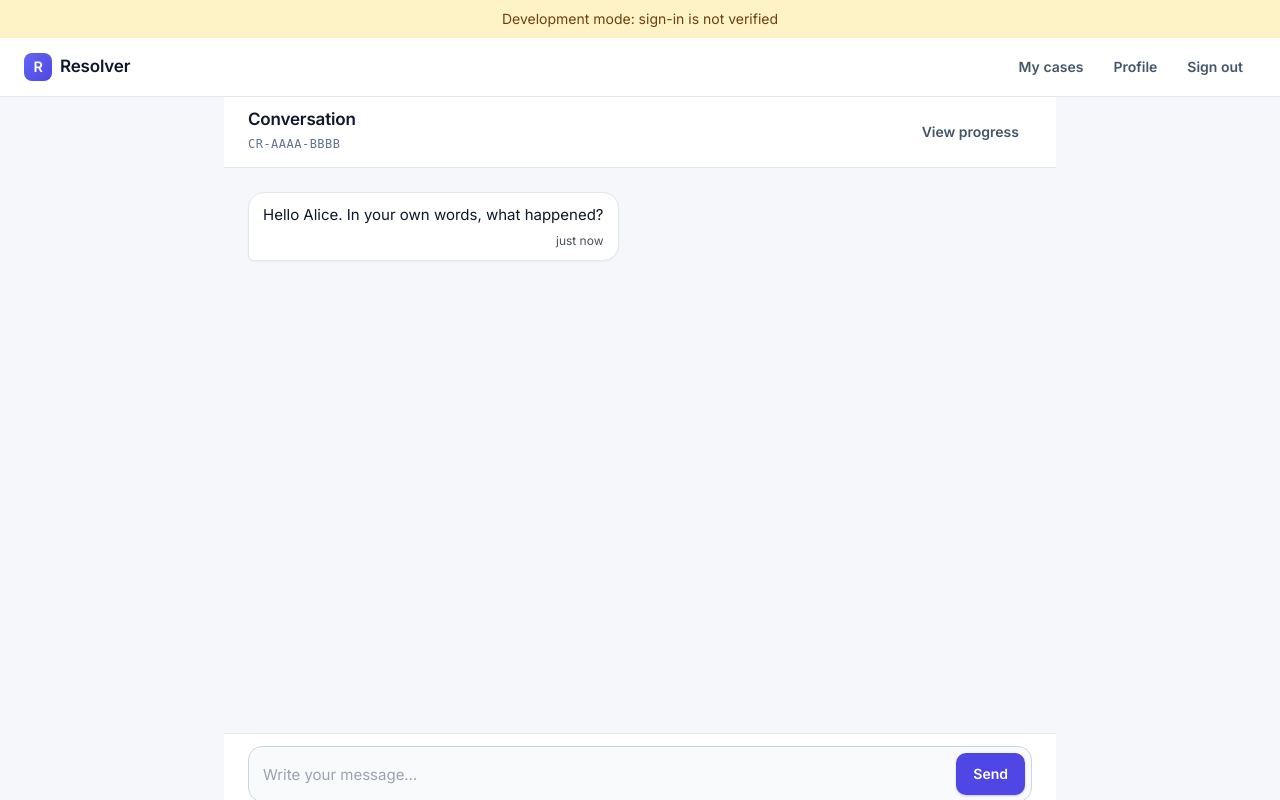
Chat › keeps a failed message with Retry, reusing the same client id
expect the text "Hello Alice. In your own words, what happened?" is shown: met, box [263, 205, 604, 224]
Type "Please keep this text" into the text box labelled "your message" at {"x": 606, "y": 775}, box [263, 755, 948, 795]
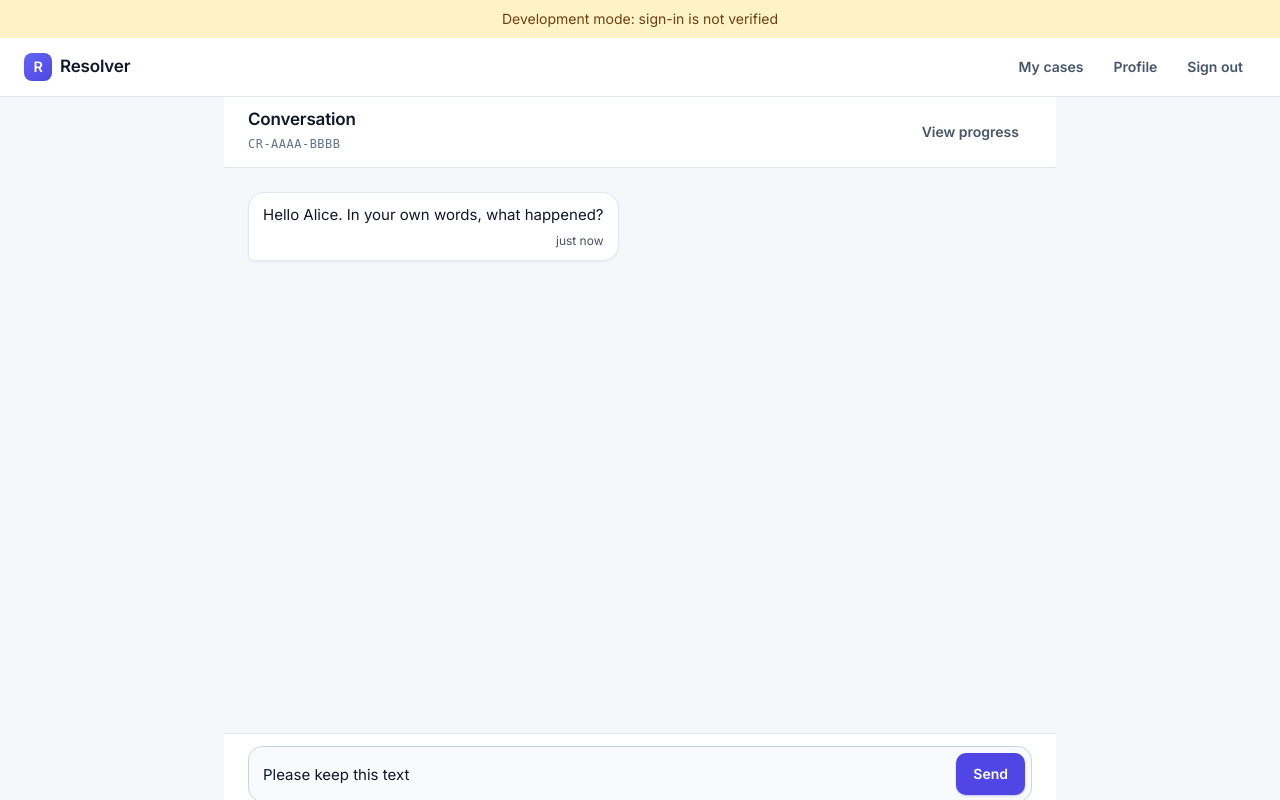
Click the button "Send" at {"x": 991, "y": 774}, box [956, 753, 1025, 795]
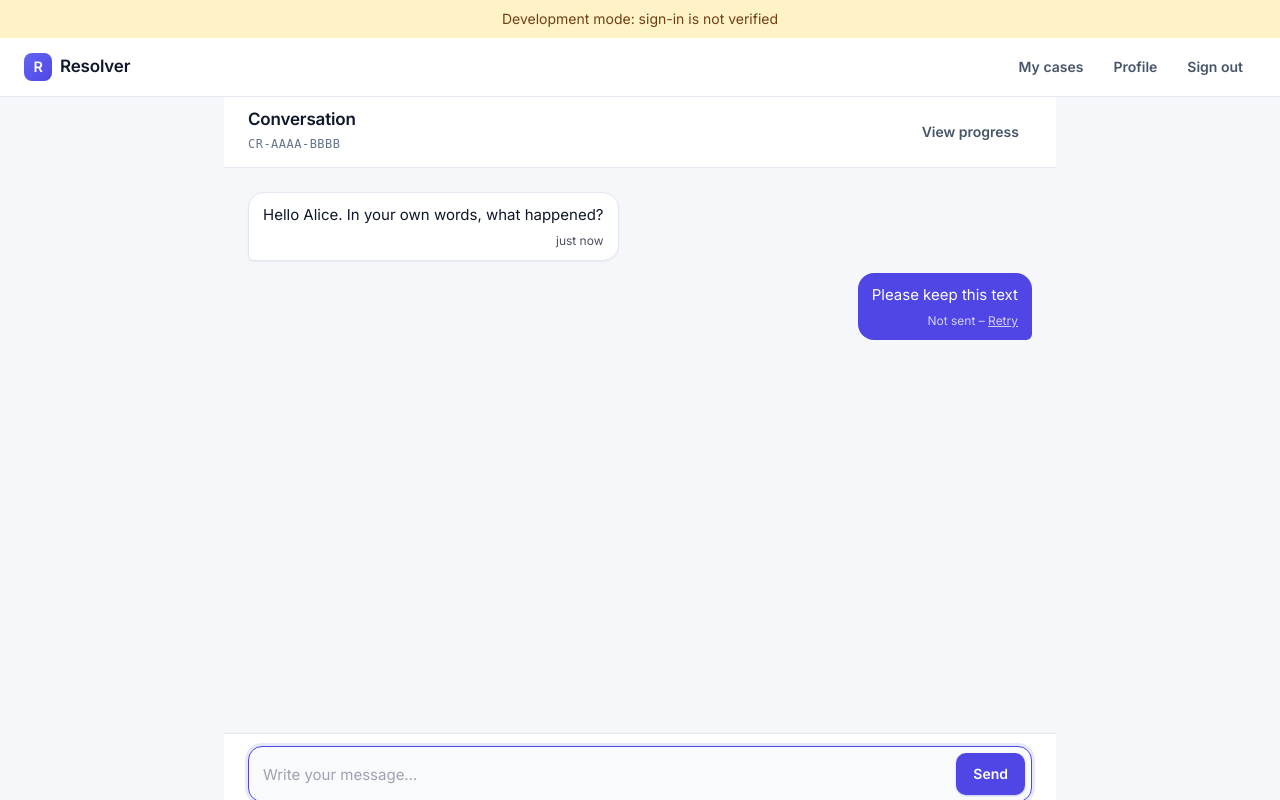
expect the text "Not sent" is shown: met, box [927, 313, 975, 328]
expect the text "Please keep this text" is shown: met, box [872, 285, 1018, 304]
Click the button "Retry" at {"x": 1003, "y": 320}, box [988, 311, 1018, 330]
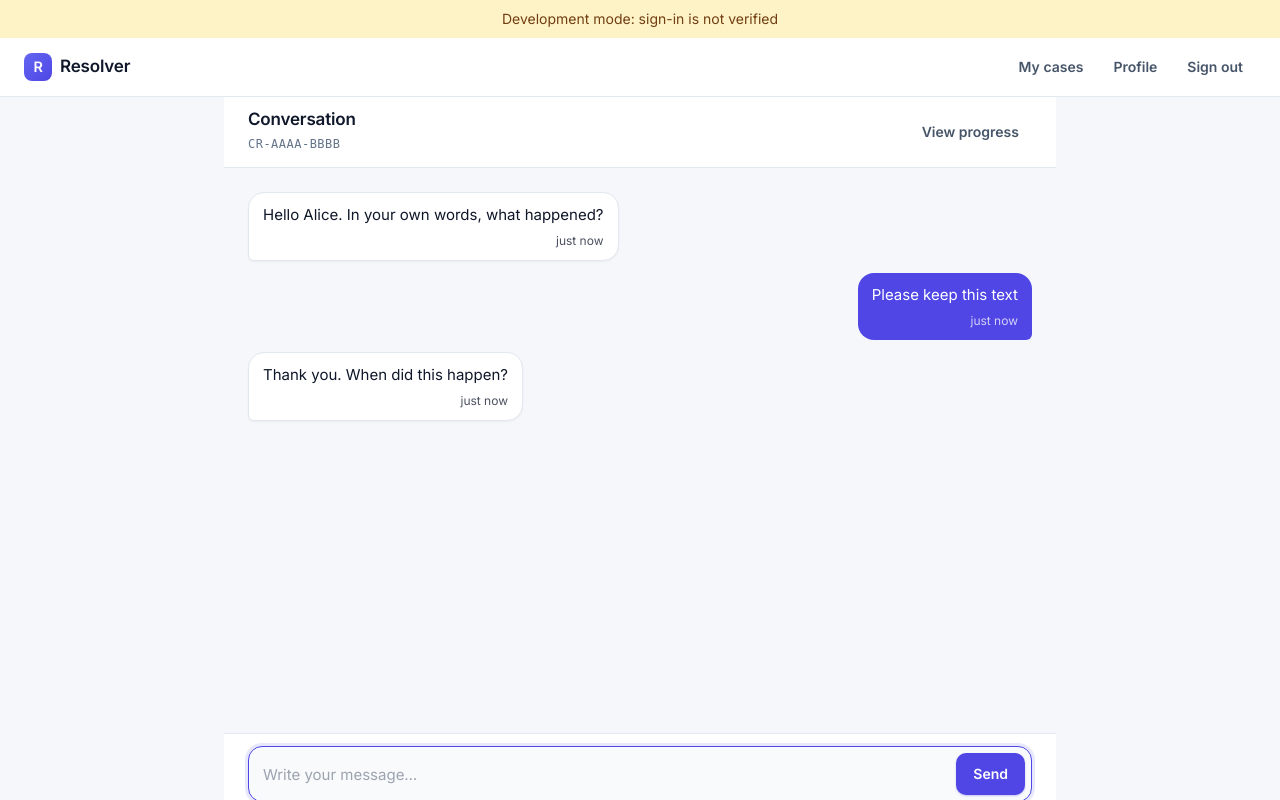
expect the text "Thank you. When did this happen?" is shown: met, box [263, 365, 508, 384]
